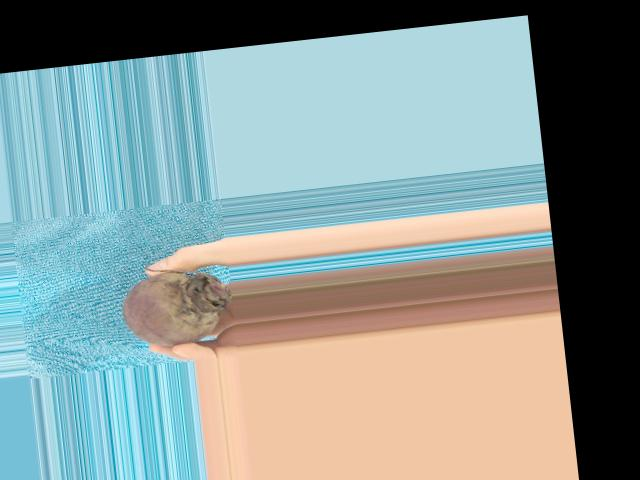beet: (118, 256, 234, 350)
